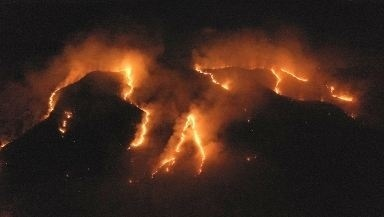fire: (154, 108, 208, 174), (116, 60, 152, 150), (267, 62, 309, 93), (194, 61, 234, 92), (329, 85, 354, 103)
